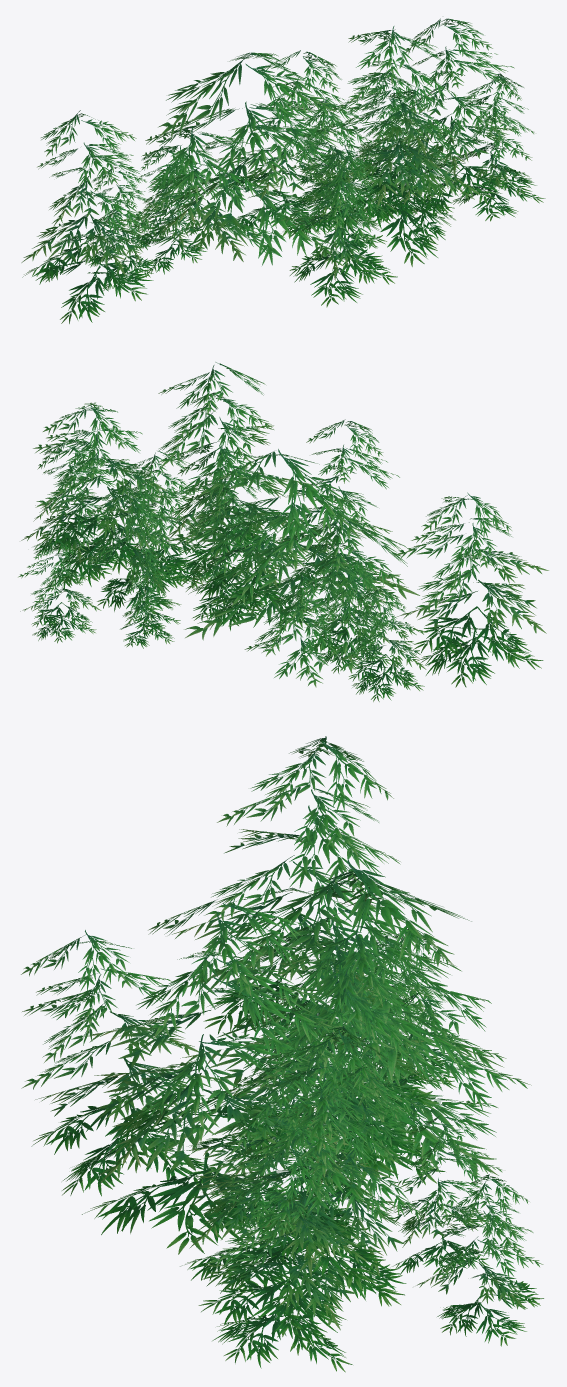
The model's file is Area_09_24.fbx.
The picture shows the model from 3 angles, top to bottom: view 1: azimuth 30°, elevation 25°; view 2: azimuth 150°, elevation 25°; view 3: azimuth 270°, elevation 25°; orthographic projection. The views are drawn at different scales.
Parts seen in each view (by area): view 1: Area_09_24; view 2: Area_09_24; view 3: Area_09_24.
Part boxes in pixels (x1,y1,x2,y2): Area_09_24: (21,18,545,323); Area_09_24: (18,362,548,701); Area_09_24: (21,736,543,1372).
Bounding box in the file's own units: 3477 × 1524 × 1945.
